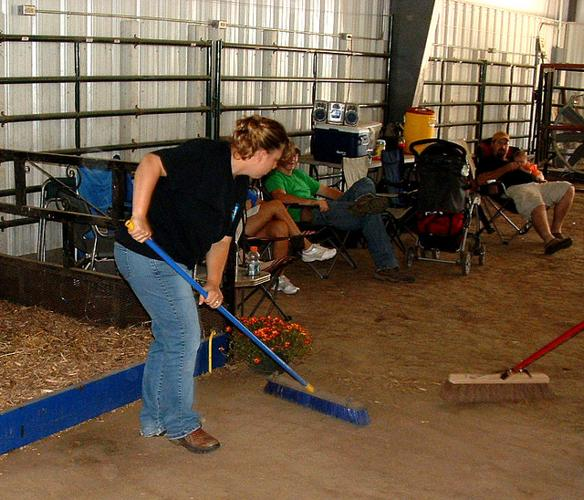person: (113, 117, 290, 454)
